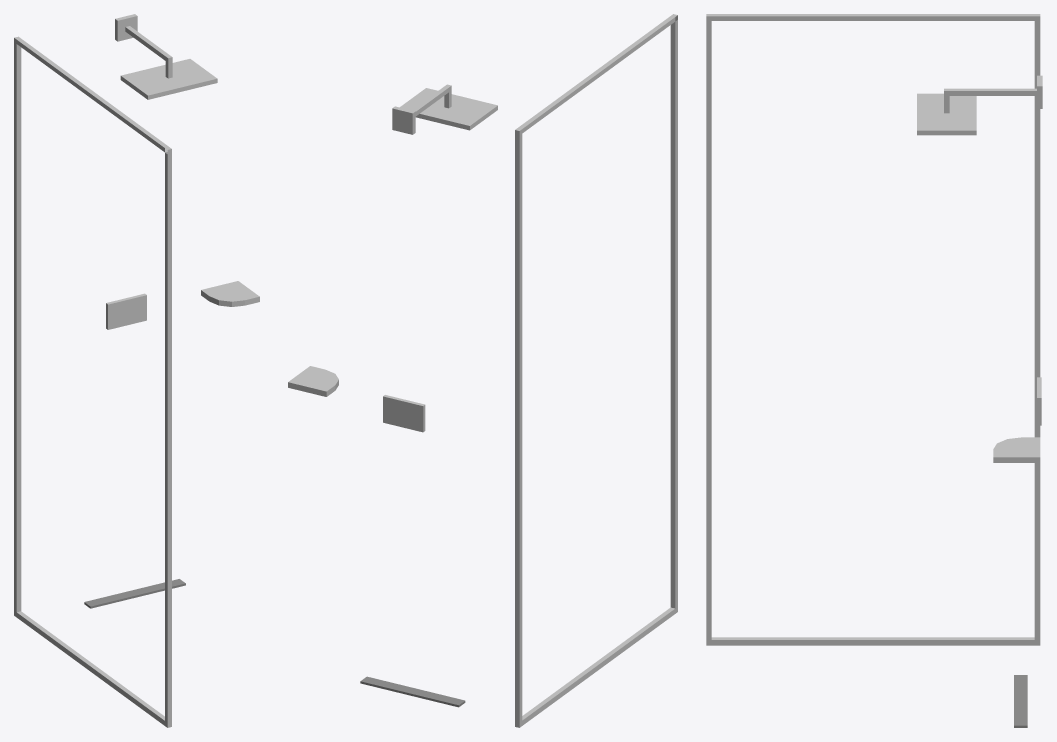
File: Shower4_C1.fbx
3 renders of one model, left to right at view 1: azimuth 30°, elevation 25°; view 2: azimuth 150°, elevation 25°; view 3: azimuth 270°, elevation 25°, orthographic. The views are drawn at different scales.
Parts seen in each view (by area): view 1: Shower4_C1; view 2: Shower4_C1; view 3: Shower4_C1.
Part boxes in pixels (x1,y1,x2,y2): Shower4_C1: (14,14,259,727); Shower4_C1: (288,14,677,727); Shower4_C1: (706,14,1042,727).
Bounding box in the file's own units: 90 × 222 × 108.
